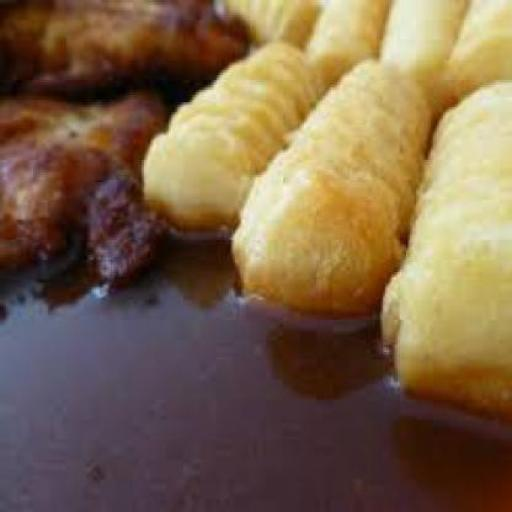biodegradable: (0, 0, 511, 511), (230, 55, 432, 314), (376, 80, 510, 422), (138, 38, 324, 227), (0, 87, 167, 270), (0, 0, 250, 90), (377, 0, 465, 126), (81, 164, 165, 280), (428, 0, 511, 116), (302, 0, 385, 78), (221, 0, 314, 48)
